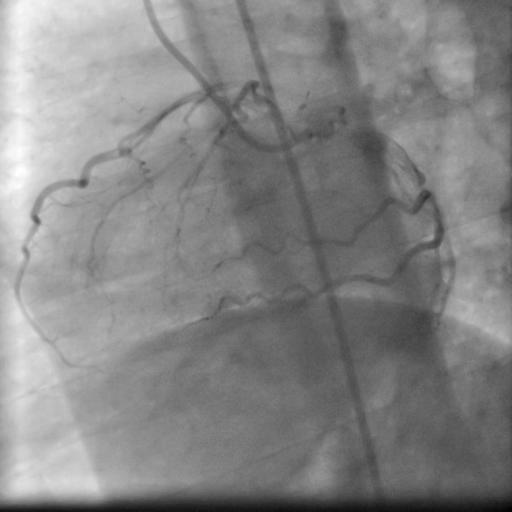Stenosis: (413, 179, 430, 191)
